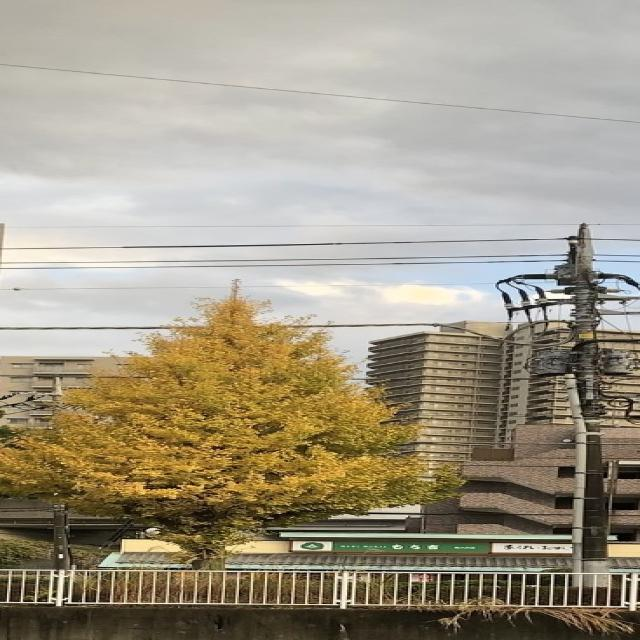ginkgo: (0, 275, 481, 584)
